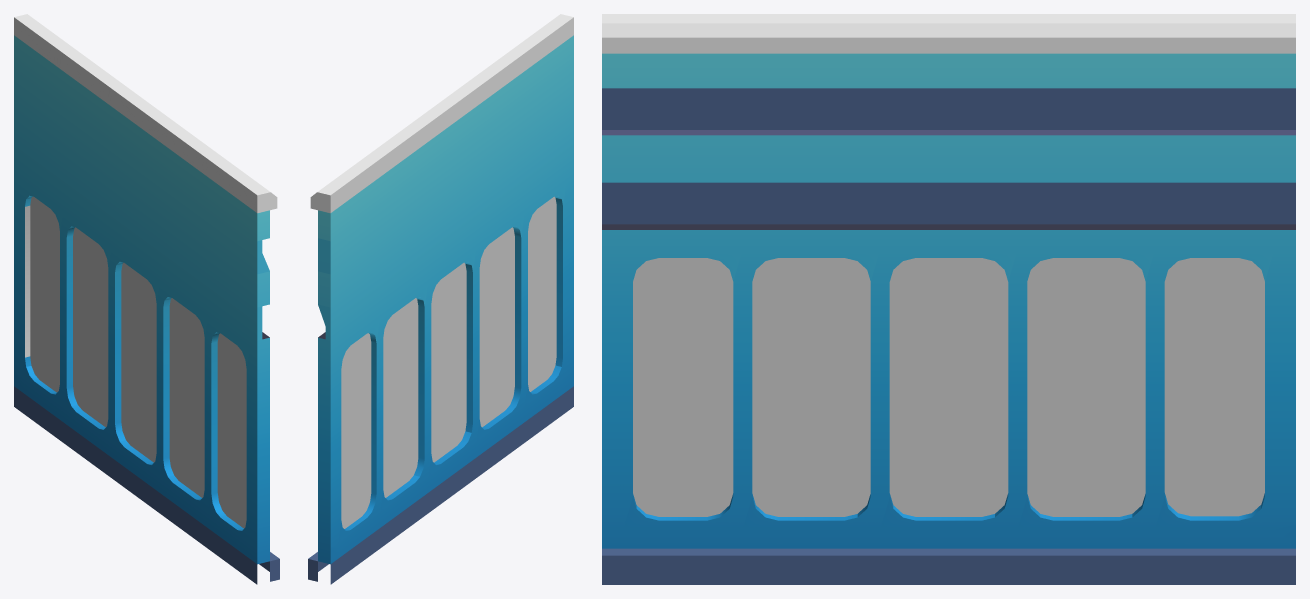
File: 5Wall_Window.fbx
The picture shows the model from 3 angles, left to right: view 1: azimuth 30°, elevation 25°; view 2: azimuth 150°, elevation 25°; view 3: azimuth 270°, elevation 25°; orthographic projection. The views are drawn at different scales.
Parts seen in each view (by area): view 1: 5Wall_Window; view 2: 5Wall_Window; view 3: 5Wall_Window.
Boxes of the visible parts, bbox=[...] form: 5Wall_Window: bbox=[14, 14, 279, 584]; 5Wall_Window: bbox=[308, 14, 573, 584]; 5Wall_Window: bbox=[602, 14, 1295, 584].
Bounding box in the file's own units: 21.31 × 353 × 400.
